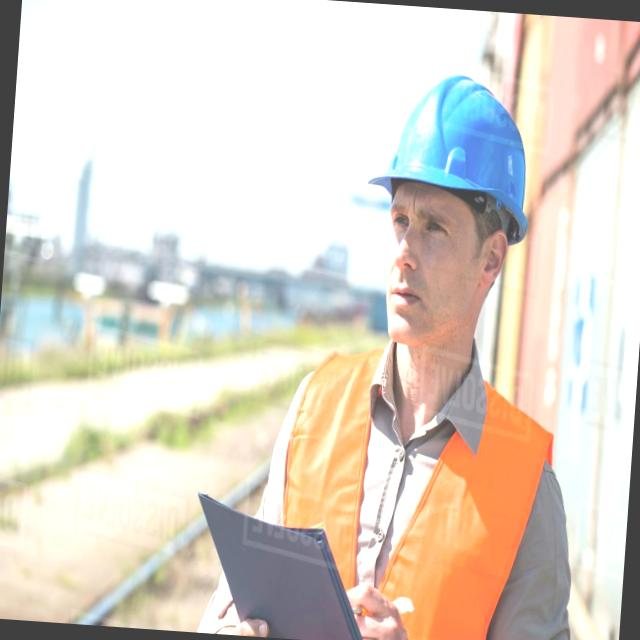helmet: (368, 76, 552, 218)
no-goggles: (380, 197, 478, 250)
vest: (249, 331, 557, 640)
